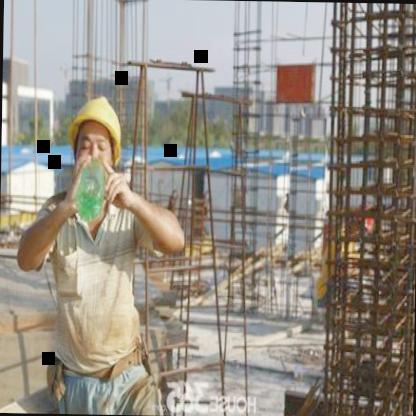helmet: (65, 86, 127, 181)
